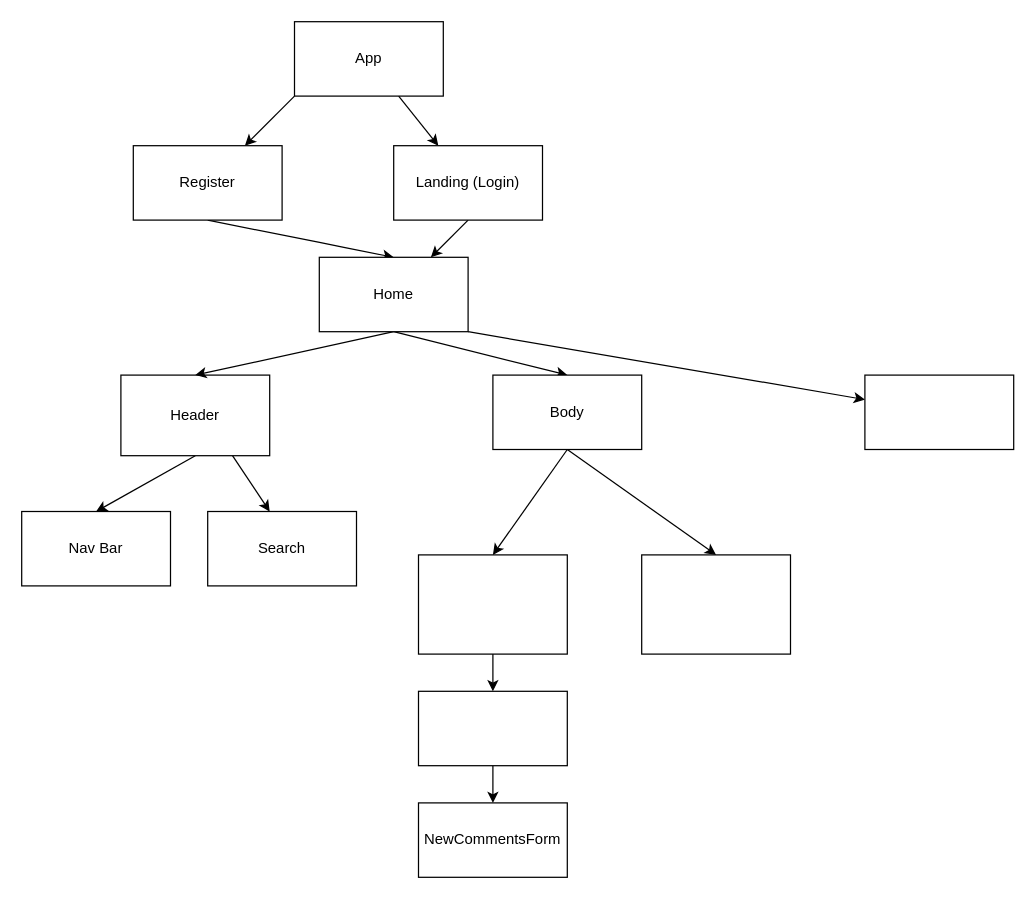
This 1035x899 diagram has some shape labels left out. The centre of each missing label's shape, as x and y in pixels:
Footer: (x=939, y=412)
MemoriesList: (x=492, y=604)
Memory: (x=492, y=728)
NewMemoryForm: (x=715, y=604)
